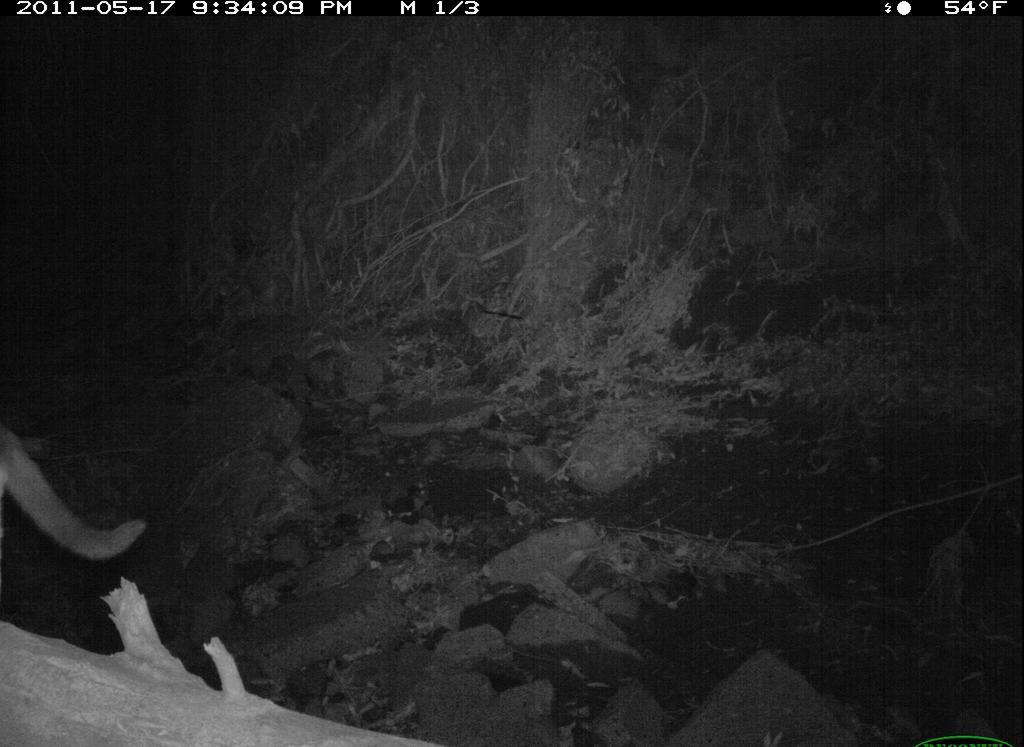cat: (3, 411, 169, 588)
